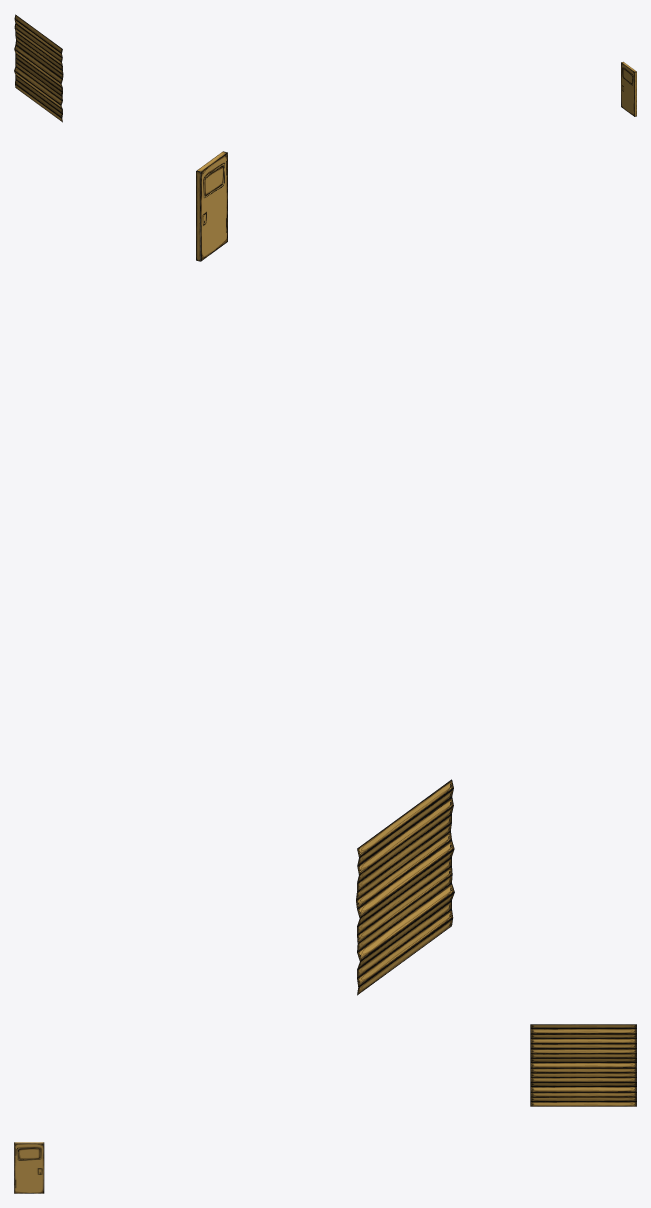
Rendered from gent_door.fbx.
The picture shows the model from 3 angles, top to bottom: view 1: azimuth 30°, elevation 25°; view 2: azimuth 150°, elevation 25°; view 3: azimuth 270°, elevation 25°; orthographic projection. The views are drawn at different scales.
Visible parts, largest first — view 1: Base level.003, Base level.031; view 2: Base level.003, Base level.031; view 3: Base level.003, Base level.031.
Boxes of the visible parts, left/top/right/bottom form: Base level.003: left=14, top=14, right=63, bottom=122; Base level.031: left=621, top=61, right=636, bottom=116; Base level.003: left=356, top=779, right=454, bottom=995; Base level.031: left=196, top=151, right=227, bottom=261; Base level.003: left=530, top=1024, right=636, bottom=1106; Base level.031: left=14, top=1142, right=44, bottom=1193.
Size of the model in its own units: 2623 by 980 by 3644.
